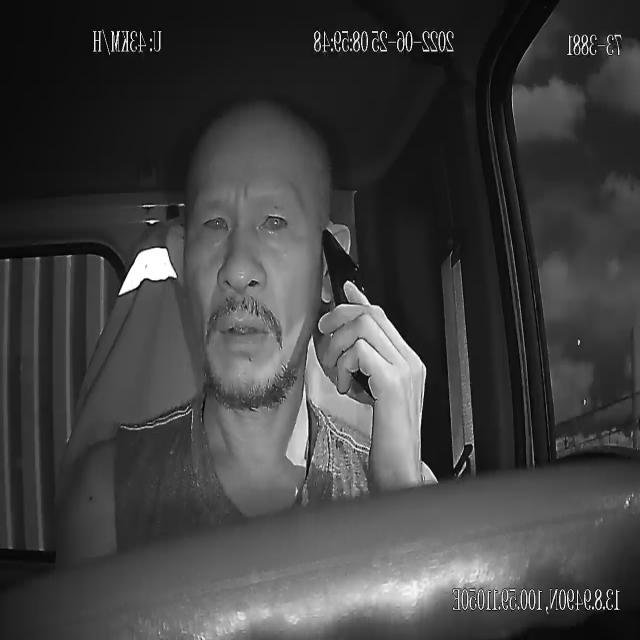phone: (320, 230, 373, 396)
